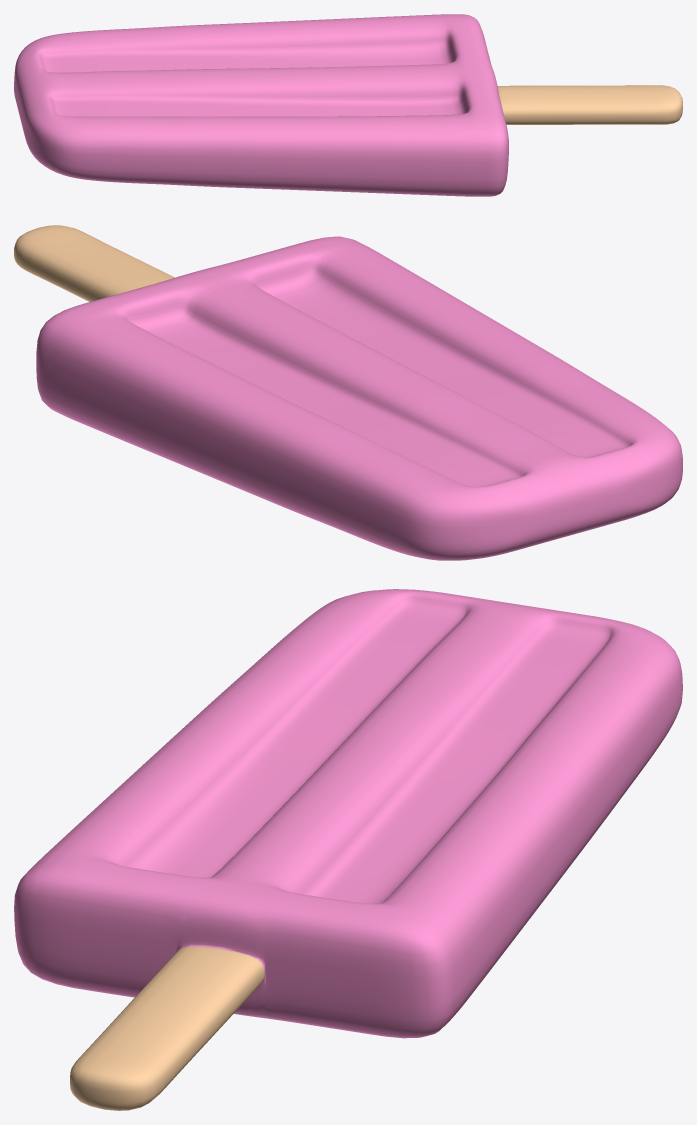
Rendered from ToyObject_071.fbx.
The picture shows the model from 3 angles, top to bottom: view 1: azimuth 30°, elevation 25°; view 2: azimuth 150°, elevation 25°; view 3: azimuth 270°, elevation 25°; orthographic projection. The views are drawn at different scales.
Parts seen in each view (by area): view 1: Object.067; view 2: Object.067; view 3: Object.067.
Part boxes in pixels (x1,y1,x2,y2): Object.067: [14, 14, 682, 196]; Object.067: [14, 225, 682, 560]; Object.067: [14, 589, 682, 1110].
Bounding box in the file's own units: 0.1836 × 0.0269 × 0.1184.
